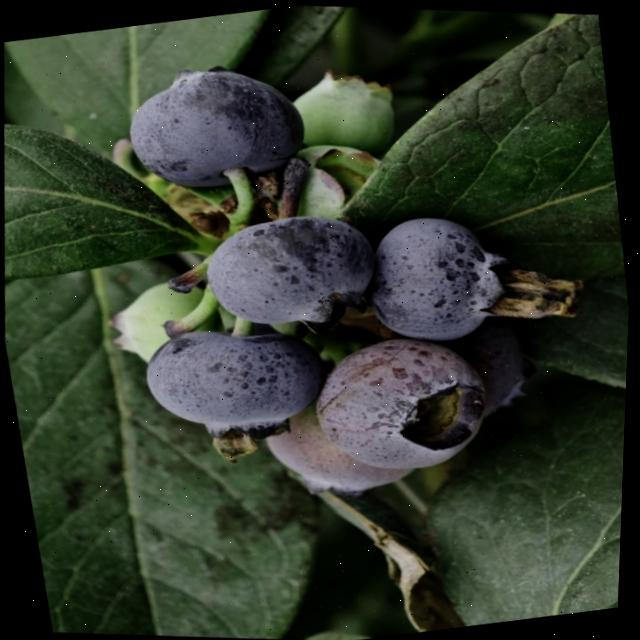RipeBlueBerry: (105, 37, 329, 214), (118, 299, 343, 468), (183, 186, 397, 351), (350, 192, 543, 361)
Semi-RipeBlueBerry: (289, 310, 515, 498)
